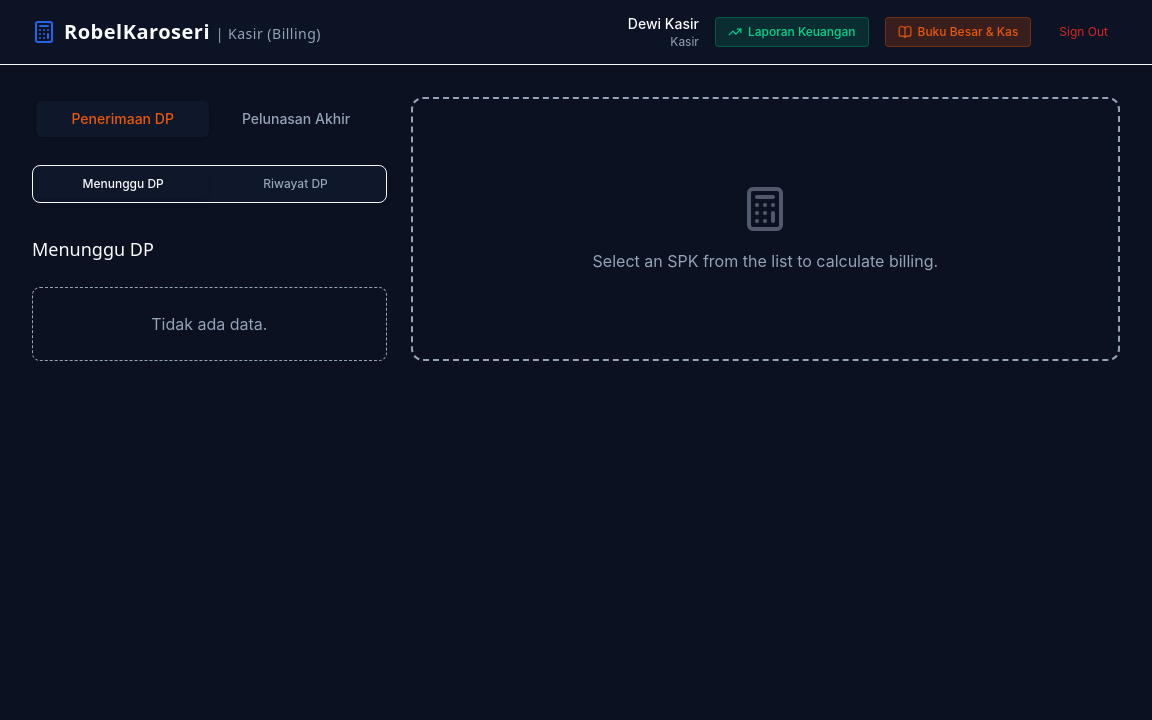
it: Component: KasirDashboard (Approved Change Order Itemized Breakdown & Accordion) › correctly reconciles SPK-3093 financial figures: Total Harga Jual (Rp 5.321.998), Total Modal HPP (Rp 3.065.264), and Estimasi Laba Kotor (Rp 2.256.734)
Note: Switch to "Pelunasan Akhir" (FINAL tab)
Click the button "Pelunasan Akhir": x=296, y=119 [209, 101, 383, 137]
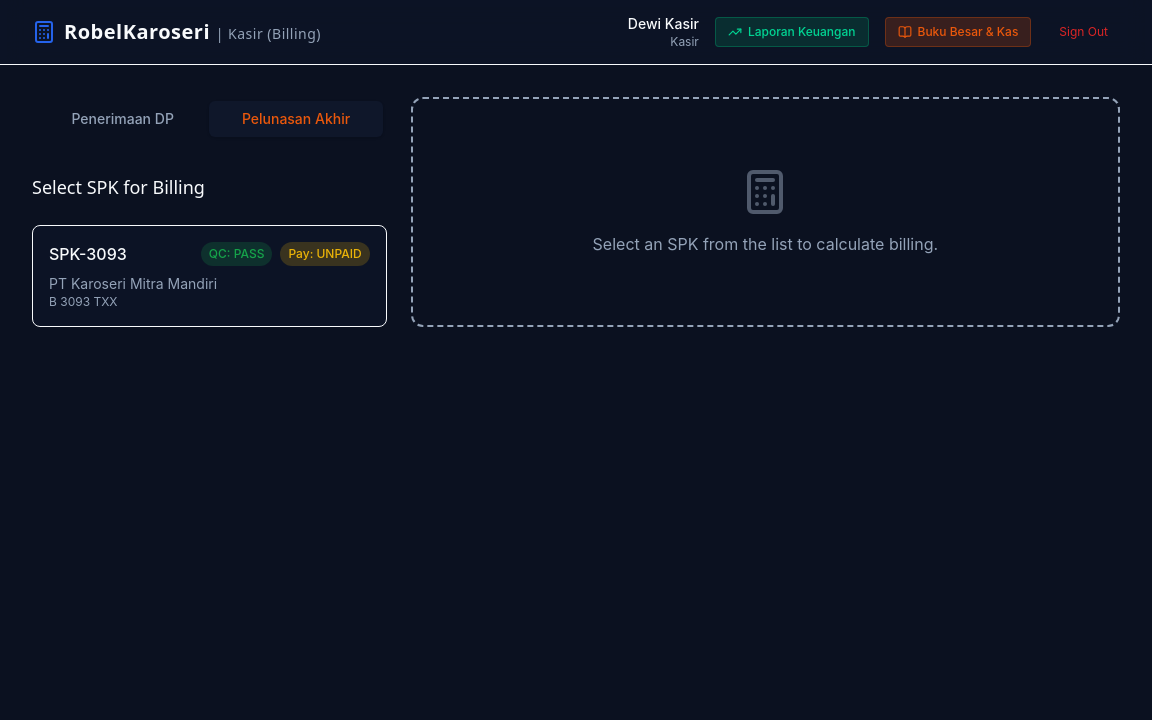
Now the heading "SPK-3093" is shown
Click the heading "SPK-3093": x=88, y=254 [49, 242, 127, 266]
(page scrolled)
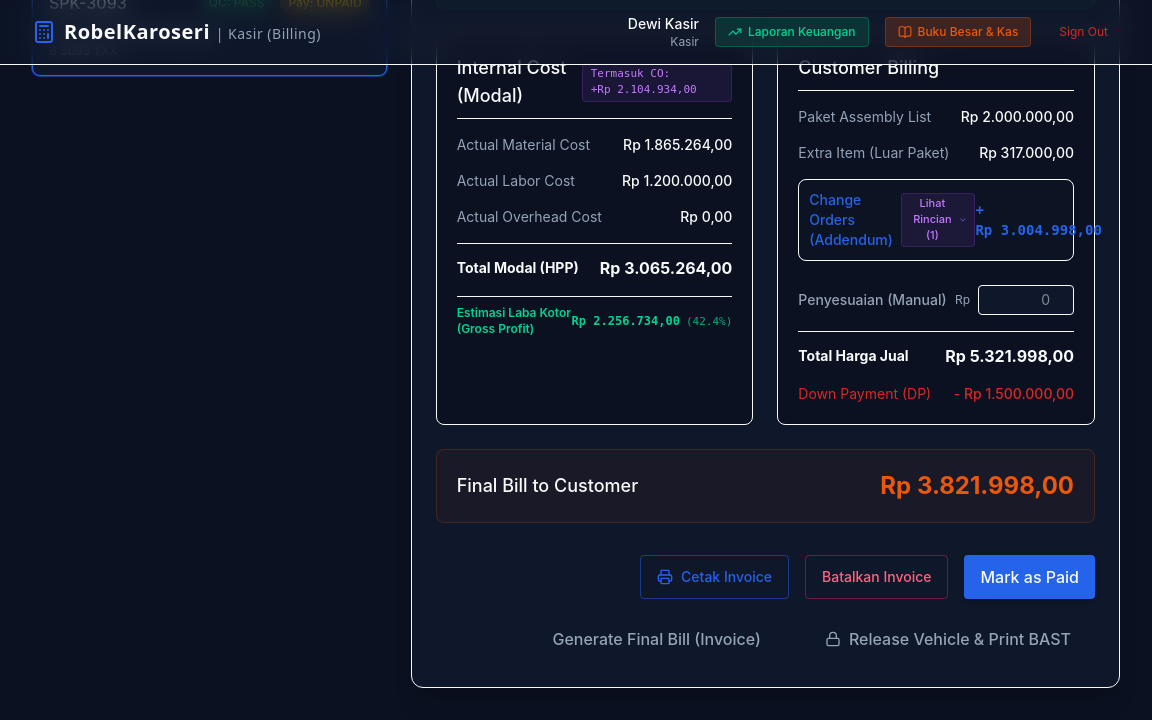
Now the text "Change Orders (Addendum)" is shown, box [809, 190, 893, 250]
Now the text "Rp 2.000.000,00" is shown, box [961, 107, 1074, 127]
Now the text "Rp 317.000,00" is shown, box [979, 143, 1074, 163]
